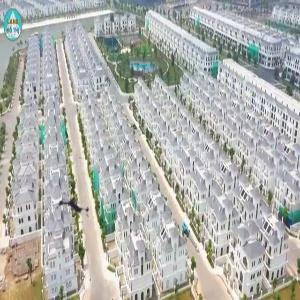drone: (48, 181, 105, 238)
